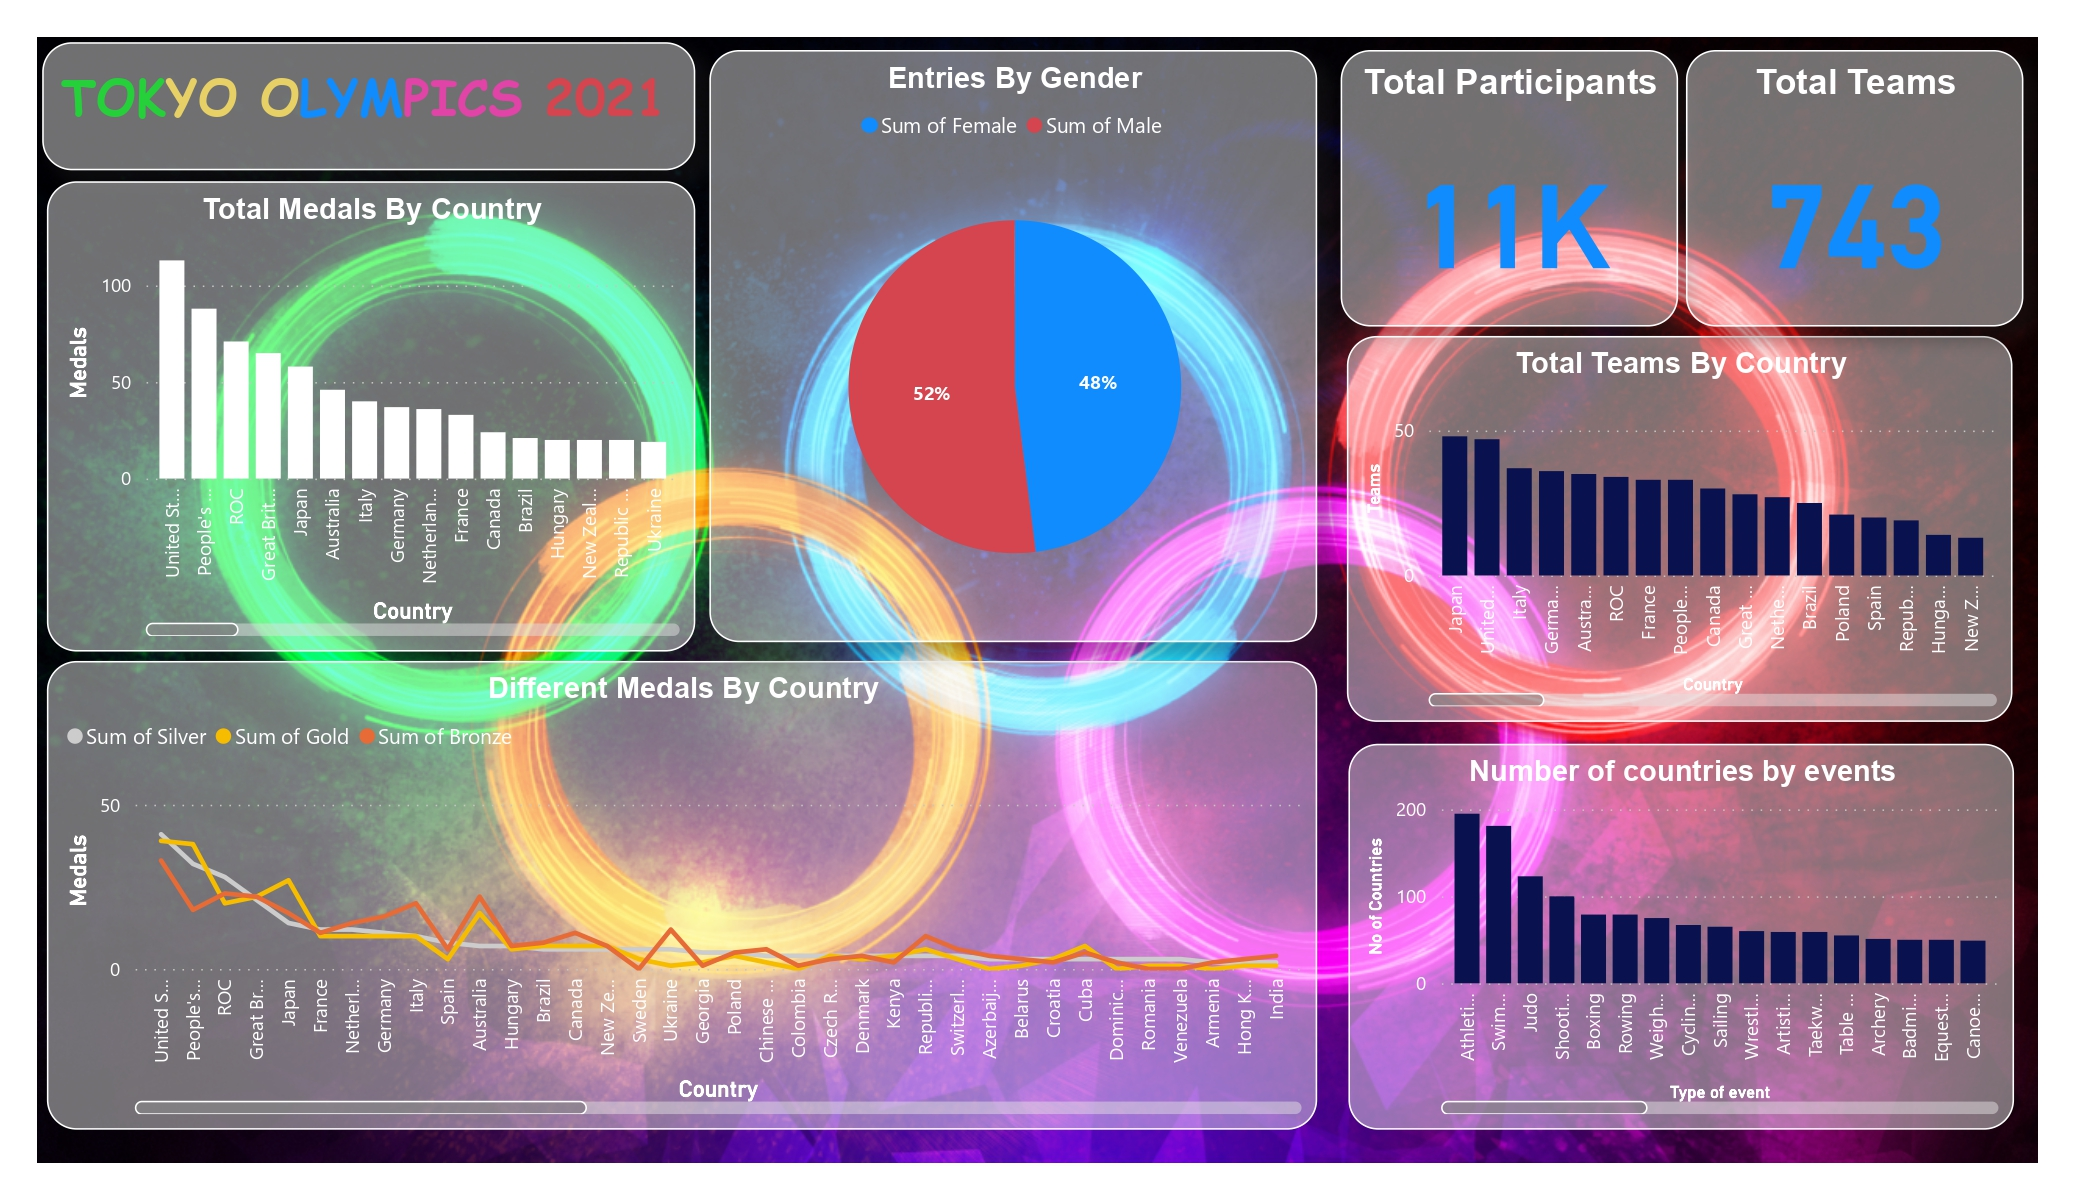

Layout of this report page (visuals, bound fields, positions):
{"tool":"powerbi","page":{"name":"Page 1","canvas":[1280,720],"ordinal":0},"visuals":[{"type":"textbox","box":[3.5,3.5,417.1,81.3],"z":0},{"type":"columnChart","title":"Total Medals By Country","fields":{"Y":["Sum(Medals.Total)"],"Category":["Medals.Team_Country"]},"box":[5.8,91.8,414.8,300.9],"z":1000},{"type":"lineChart","title":"Different Medals By Country","fields":{"Category":["Medals.Team_Country"],"Y":["Sum(Medals.Silver)","Sum(Medals.Gold)","Sum(Medals.Bronze)"]},"box":[5.8,398.5,813.4,300.9],"z":2000},{"type":"pieChart","title":"Entries By Gender","fields":{"Y":["Sum(EntriesGender.Female)","Sum(EntriesGender.Male)"]},"box":[429.9,8.1,389.3,378.8],"z":3000},{"type":"card","title":"Total Participants","fields":{"Values":["EntriesGender.Total Participants"]},"box":[834.3,8.1,216.1,176.6],"z":4000},{"type":"columnChart","title":"Total Teams By Country","fields":{"Category":["CountryTeams.Country"],"Y":["Sum(CountryTeams.TeamCount)"]},"box":[837.8,190.6,426.4,247.5],"z":5000},{"type":"card","title":"Total Teams","fields":{"Values":["CountryTeams.Total teams"]},"box":[1055.1,8.1,216.1,176.6],"z":6000},{"type":"columnChart","title":"Number of countries by events","fields":{"Category":["DisciplineCountries.Discipline"],"Y":["Sum(DisciplineCountries.CountryCount)"]},"box":[838.9,452,426.4,247.5],"z":6001}]}

Visuals, with their boxes in screenshot pixels (x1, y1, x2, y2):
textbox: region(22, 33, 689, 163)
"Total Medals By Country" columnChart: region(25, 174, 689, 655)
"Different Medals By Country" lineChart: region(25, 664, 1326, 1145)
"Entries By Gender" pieChart: region(703, 40, 1326, 646)
"Total Participants" card: region(1350, 40, 1695, 322)
"Total Teams By Country" columnChart: region(1356, 332, 2037, 727)
"Total Teams" card: region(1703, 40, 2048, 322)
"Number of countries by events" columnChart: region(1357, 750, 2039, 1145)
